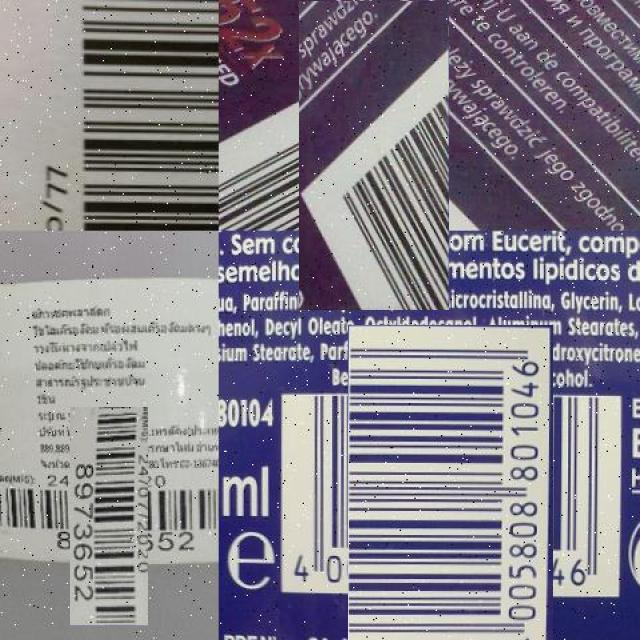Barcode: (313, 360, 588, 635), (259, 41, 489, 271), (0, 0, 219, 231), (35, 442, 184, 591)
